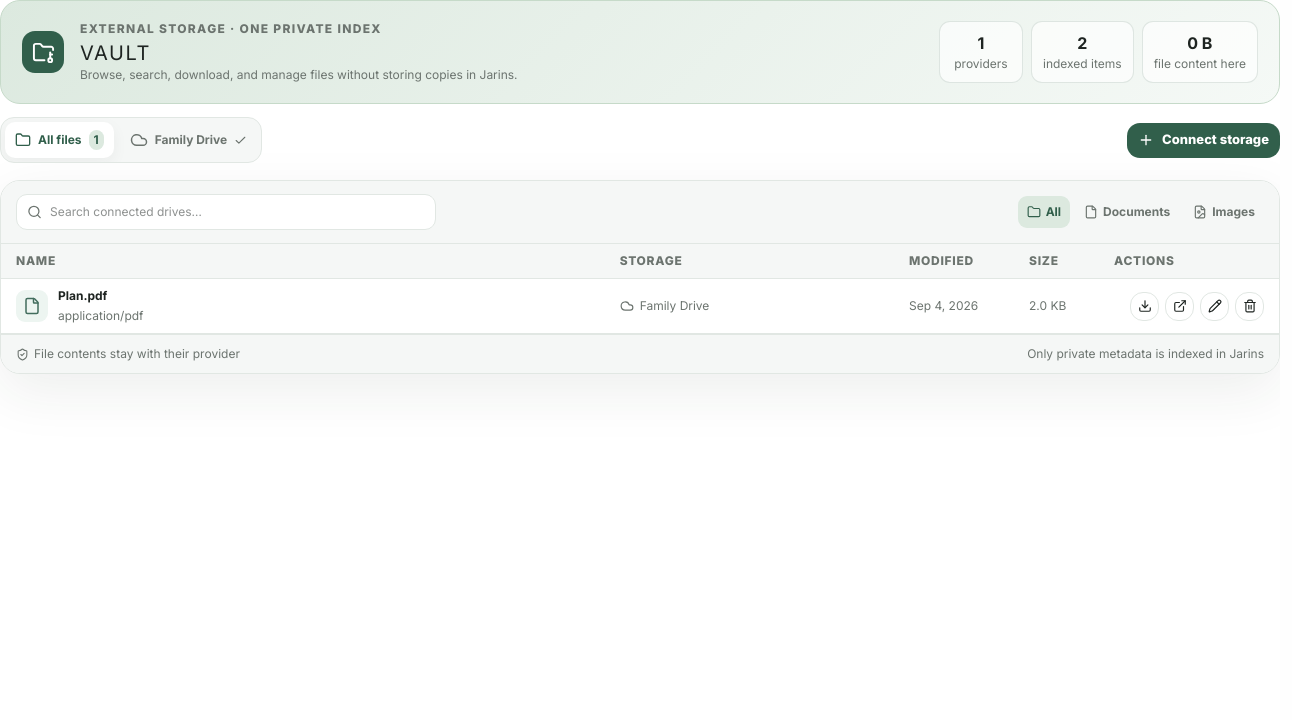
VAULT hub › exposes connection settings and sync for an account tab
Click the button "Family Drive". click: click(189, 140)
box: [120,123,257,157]
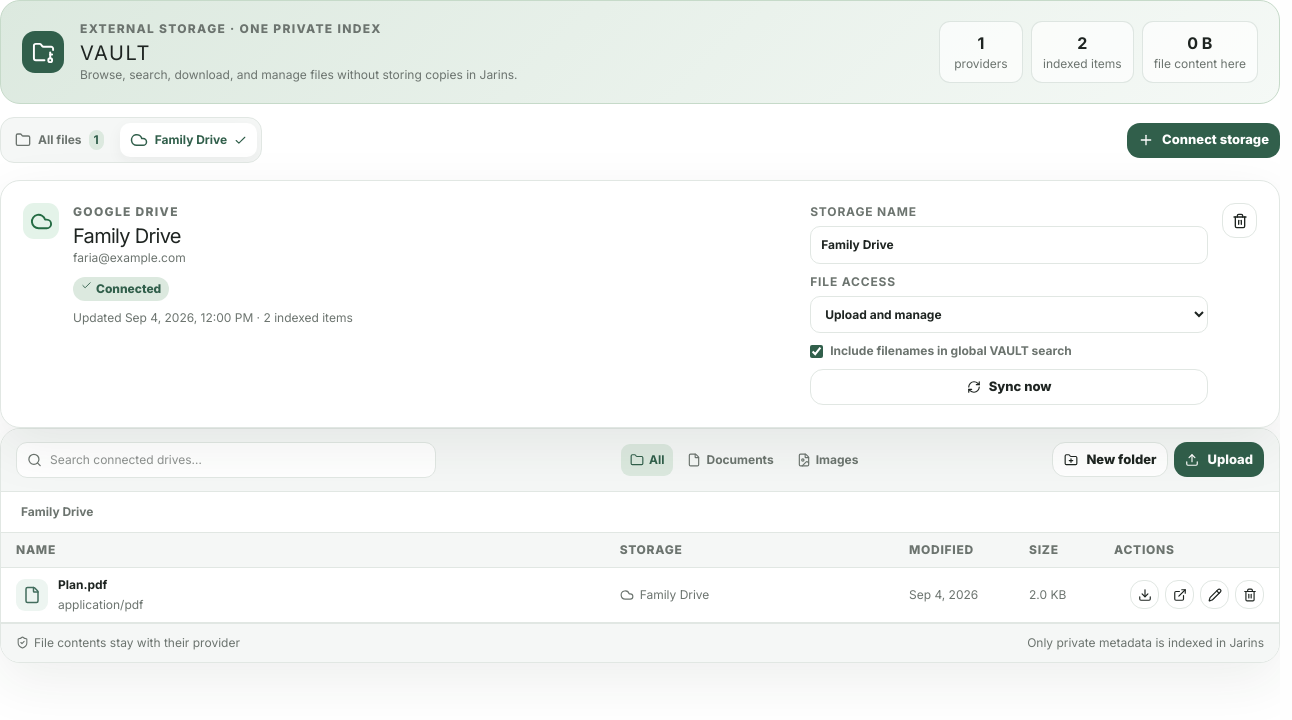
Check: the text "Connected" is shown, box [73,277,169,301]
Check: the button "Sync now" is enabled, box [810,369,1208,404]
Check: the dropdown labelled "File access" shows "Upload and manage", box [810,296,1208,333]
